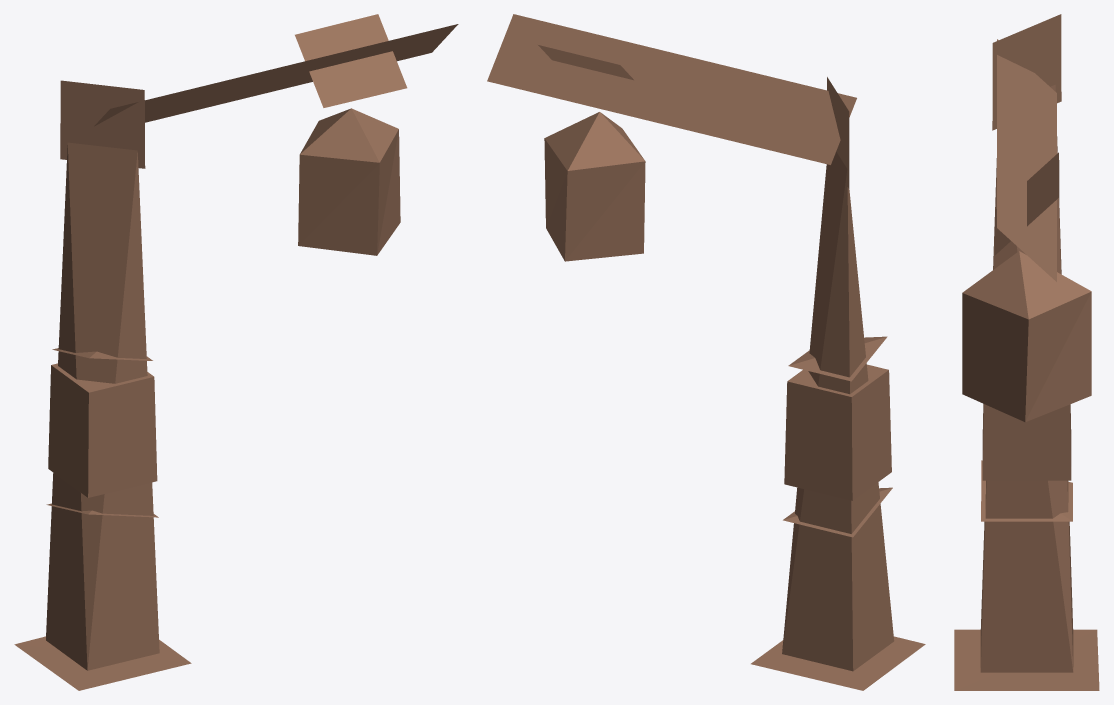
File: street-lamp.lod2.glb
3 renders of one model, left to right at view 1: azimuth 30°, elevation 25°; view 2: azimuth 150°, elevation 25°; view 3: azimuth 270°, elevation 25°, orthographic. The views are drawn at different scales.
Parts seen in each view (by area): view 1: Box016__0; view 2: Box016__0; view 3: Box016__0.
Boxes of the visible parts, <box> form: Box016__0: <box>14,14,458,690</box>; Box016__0: <box>487,14,925,690</box>; Box016__0: <box>954,14,1099,690</box>.
Size of the model in its own units: 4.15 by 5.65 by 1.17.
